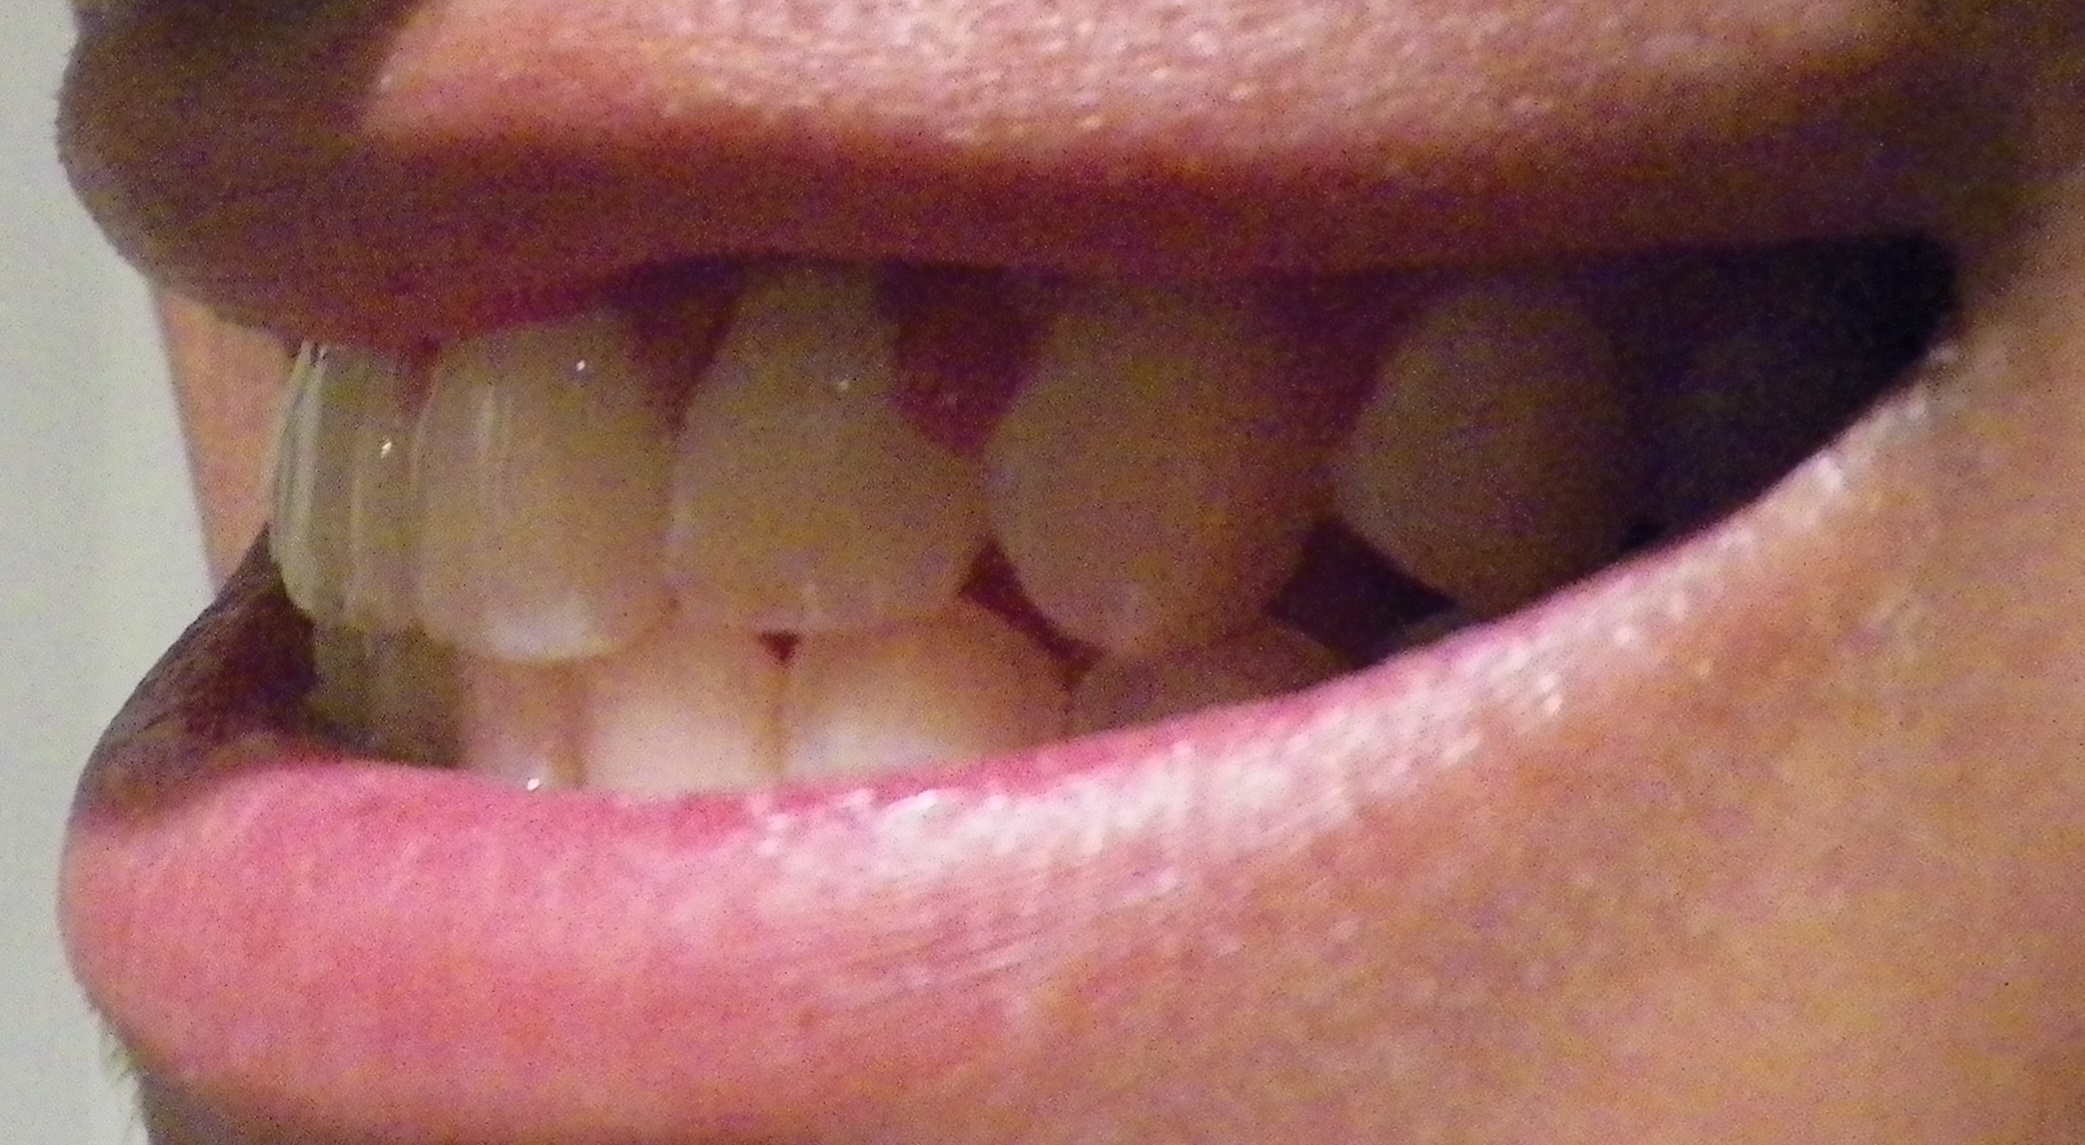boca: (250, 314, 1852, 766)
